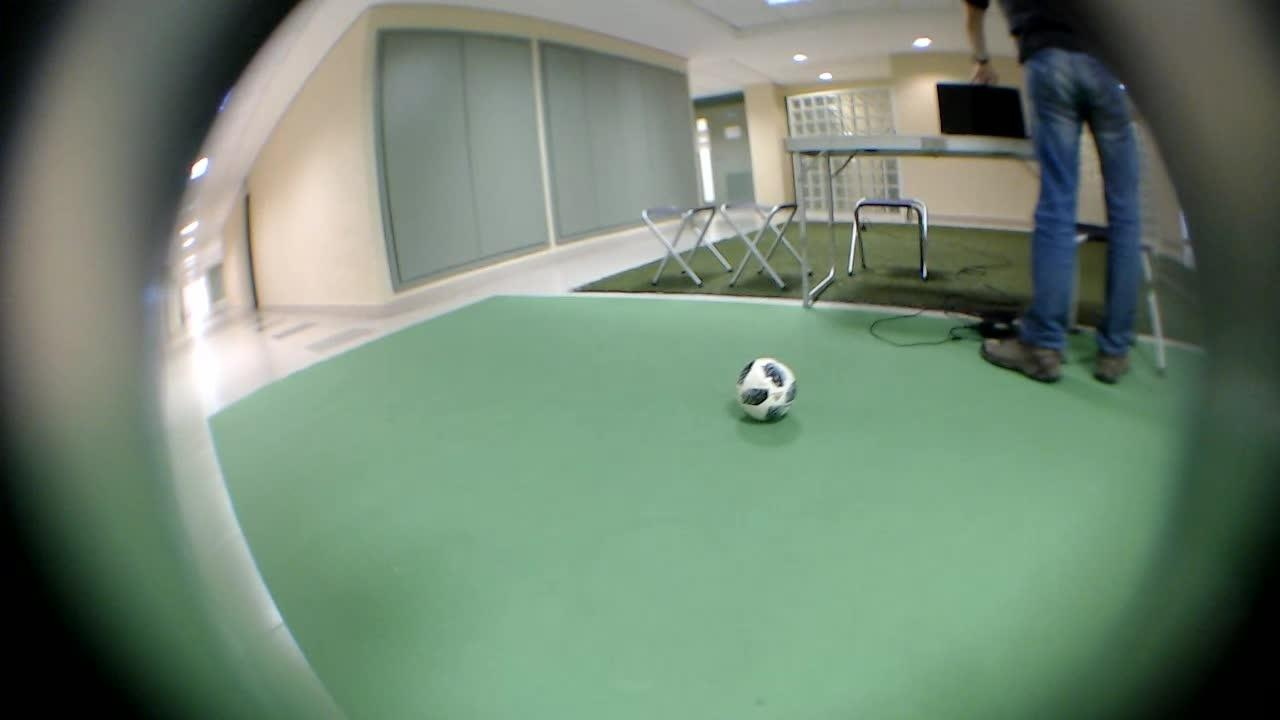ball: (720, 340, 803, 430)
